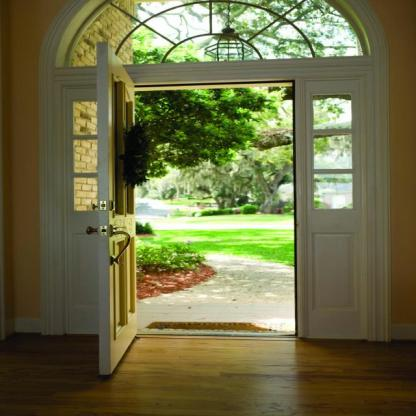door: (86, 37, 318, 284)
